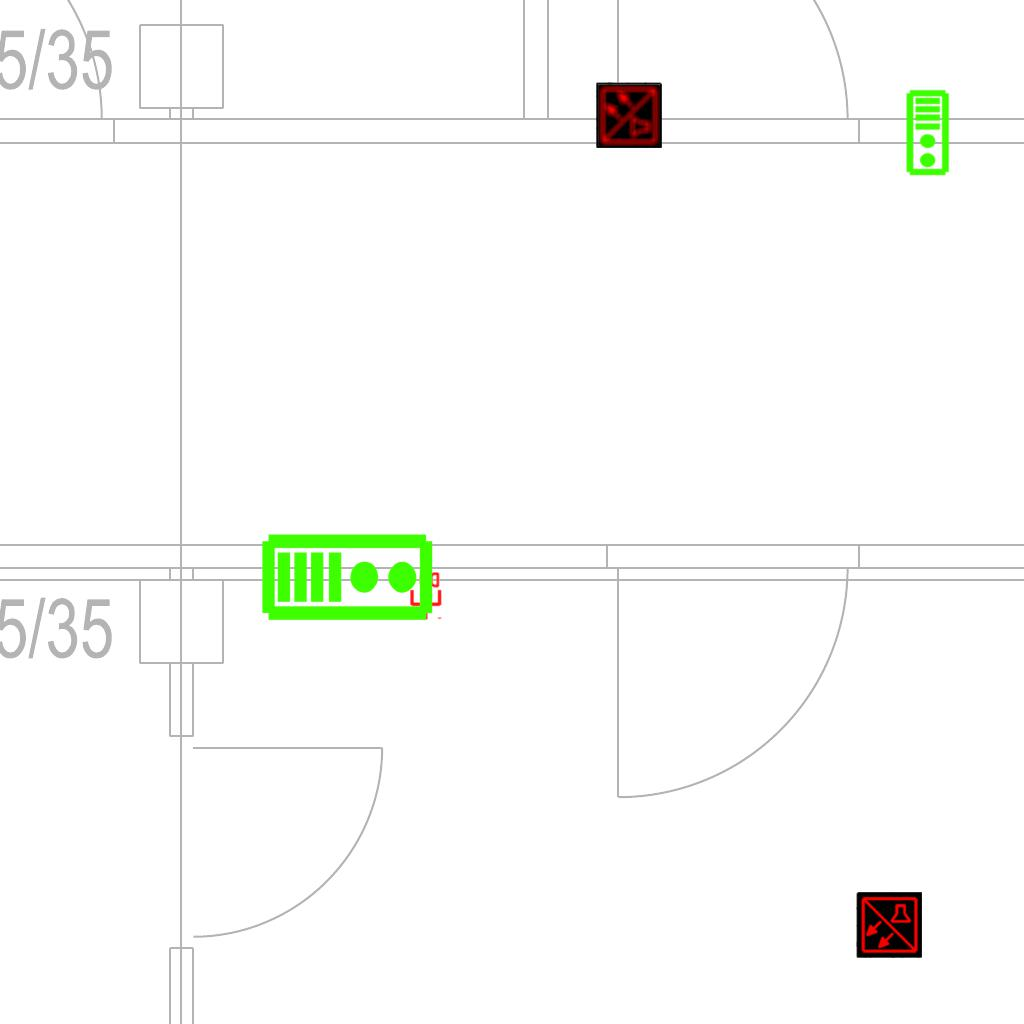Datenanschluss_zweifach: (408, 570, 442, 621)
Gegensprechanlage_mit_Video: (260, 528, 436, 623), (905, 89, 952, 177)
OKW_Multisensormelder_(Kombination_optischer_Rauch-Kahlenmonoxid_Waerme-Melder): (856, 892, 922, 958), (596, 82, 662, 148)
